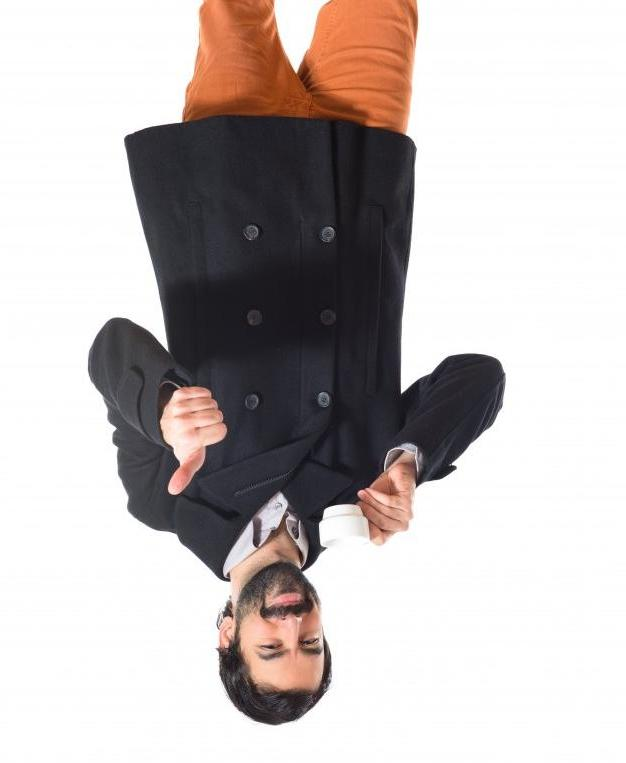thumbsdown: (168, 387, 228, 496)
